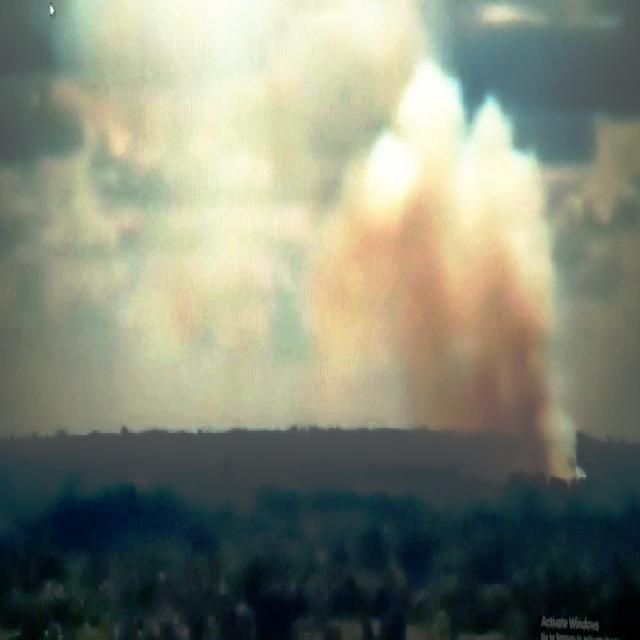asap: (343, 48, 593, 506)
